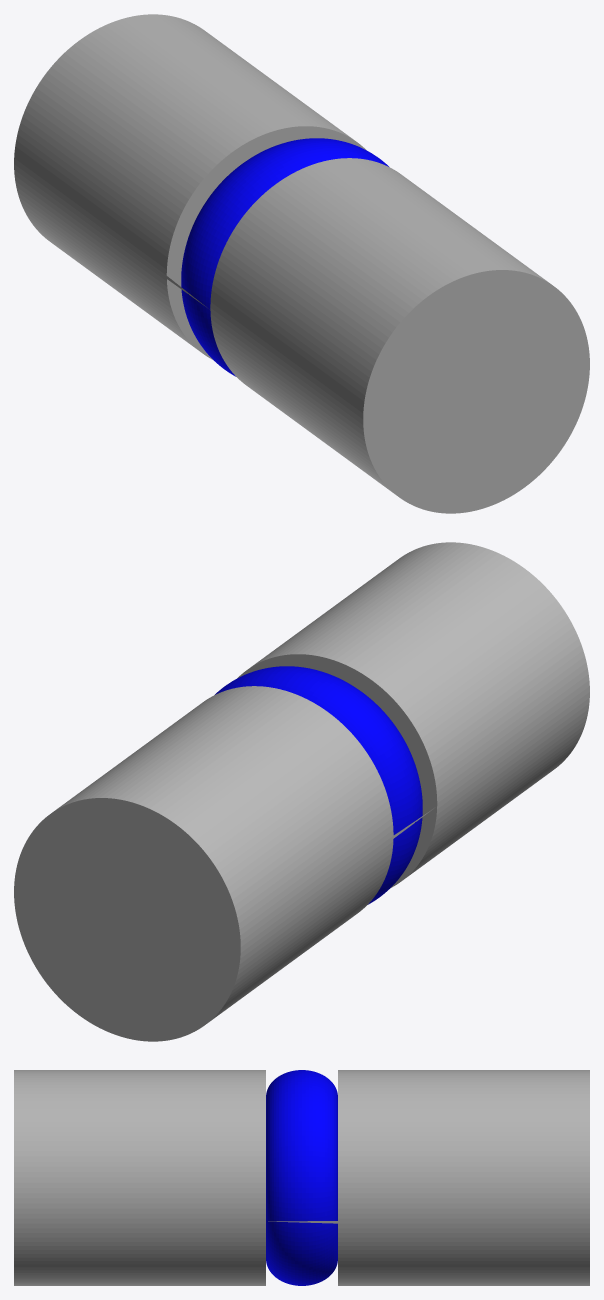
Rendered from cylinder_with_ring_0.04.obj.
3 renders of one model, top to bottom at view 1: azimuth 30°, elevation 25°; view 2: azimuth 150°, elevation 25°; view 3: azimuth 270°, elevation 25°, orthographic. The views are drawn at different scales.
Visible parts, largest first — view 1: object0, object1; view 2: object0, object1; view 3: object0, object1.
Boxes of the visible parts, x1,y1,x2,y2 form: object0: (14,14,589,513); object1: (181,138,388,376); object0: (14,542,589,1041); object1: (215,666,422,904); object0: (14,1070,589,1285); object1: (266,1070,337,1285).
Bounding box in the file's own units: 0.03 × 0.03 × 0.08.
